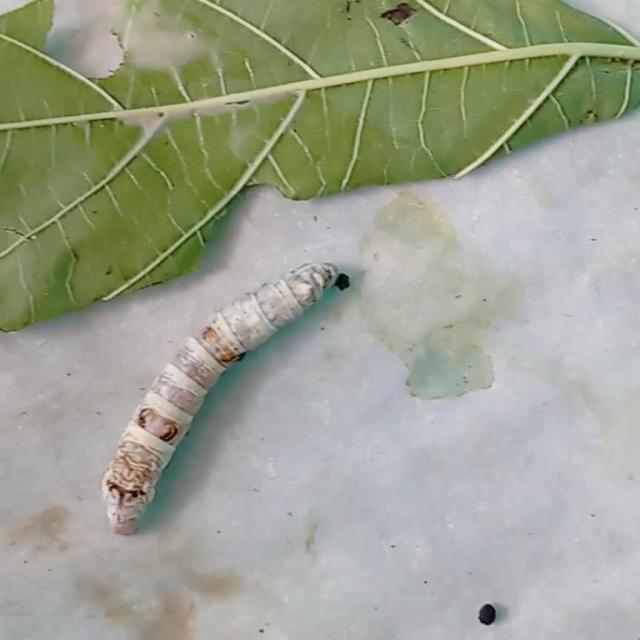Grasserie: (65, 245, 367, 572)
